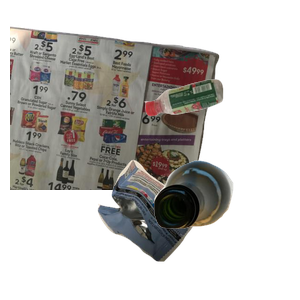glass: (151, 158, 300, 300)
paper: (10, 21, 222, 201)
plastic: (142, 77, 300, 186)
trash: (95, 157, 282, 300)
